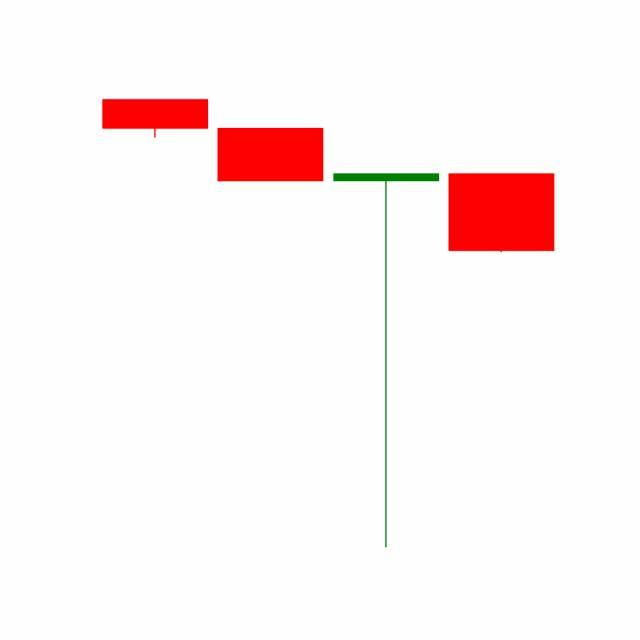Dragonfly Doji: (328, 169, 444, 551)
